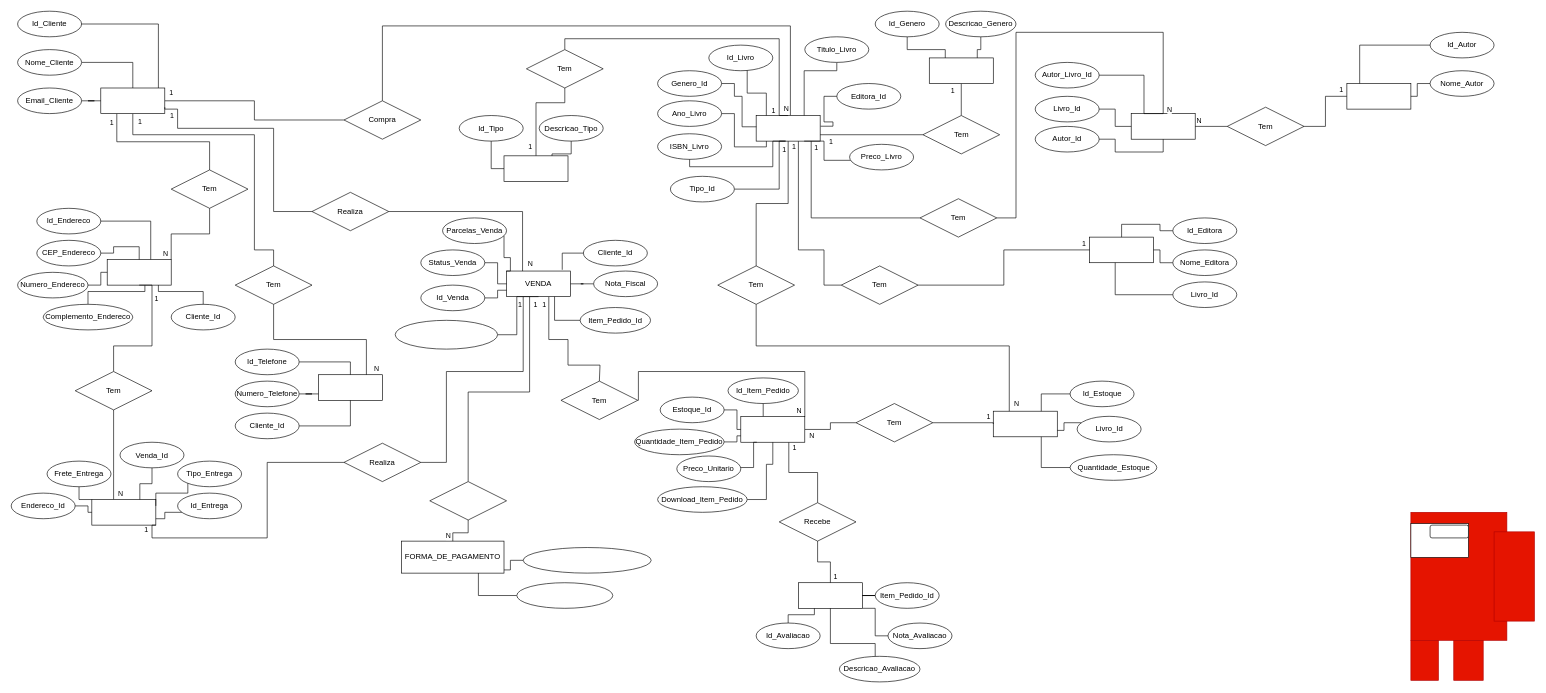
This 1546x693 diagram has some shape labels left out. Here are the shapes that lost their labels. From the top down, the centre of each, then its label:
At (x=961, y=70): "Genero".
At (x=132, y=100): "CLIENTE".
At (x=1378, y=96): "AUTOR".
At (x=788, y=128): "LIVRO".
At (x=1163, y=126): "AUTOR_LIVRO".
At (x=535, y=168): "Tipo".
At (x=1121, y=249): "EDITORA".
At (x=139, y=272): "ENDERECO".
At (x=446, y=334): "Forma_De_Pagamento_Id".
At (x=350, y=387): "TELEFONE".
At (x=772, y=429): "ITEM_PEDIDO".
At (x=1025, y=424): "ESTOQUE".
At (x=123, y=512): "ENTREGA".
At (x=468, y=500): "Contém".
At (x=587, y=560): "Descricao_Forma_De_Pagamento".
At (x=564, y=595): "Id_Forma_De_Pagamento".
At (x=830, y=595): "AVALIACAO".
